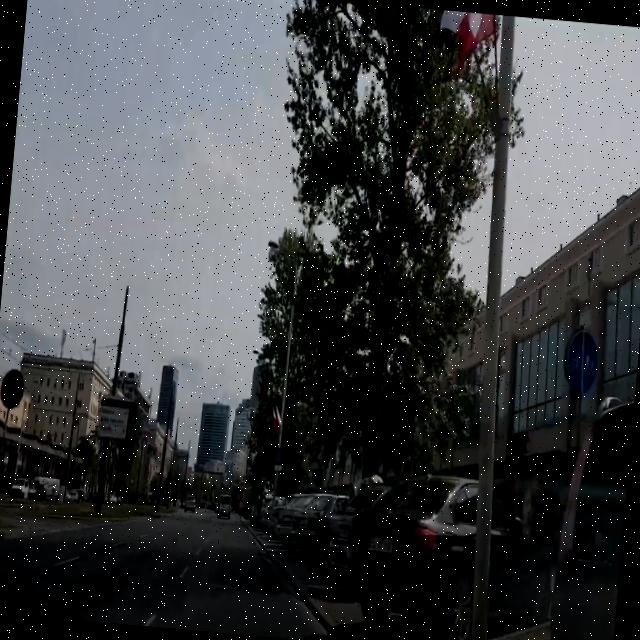Zakaz zatrzymywania sie: (272, 446, 284, 466)
